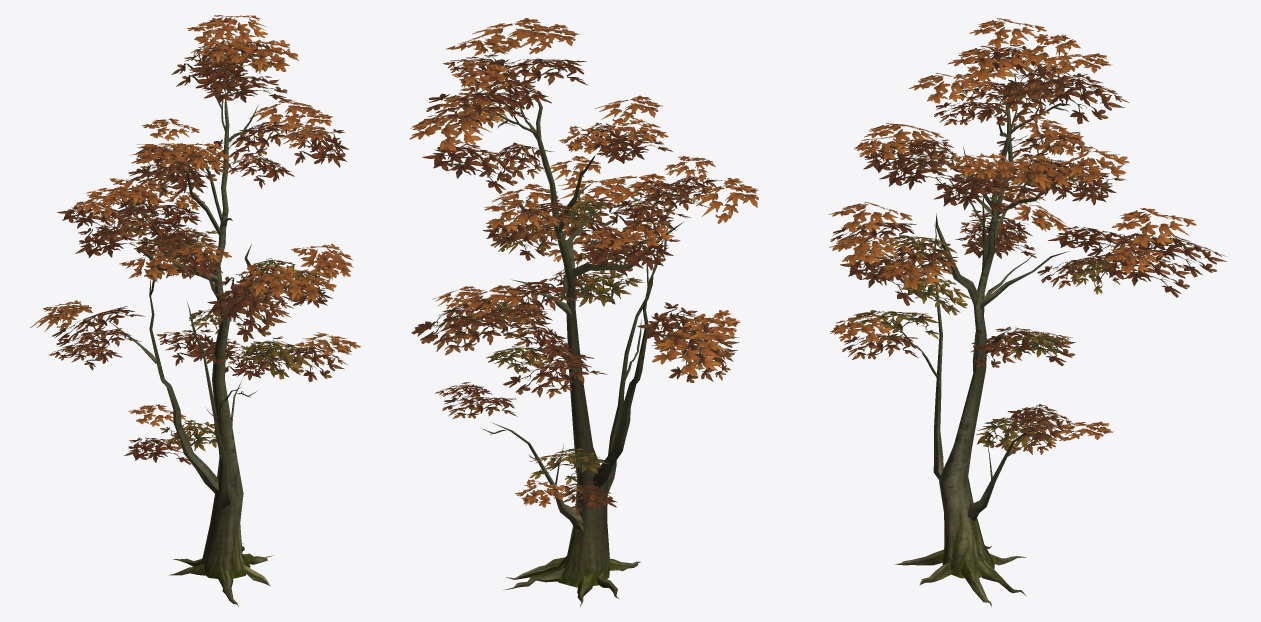
Rendered from 7003_Item_shu_2.FBX.
3 renders of one model, left to right at view 1: azimuth 30°, elevation 25°; view 2: azimuth 150°, elevation 25°; view 3: azimuth 270°, elevation 25°, orthographic. The views are drawn at different scales.
Visible parts, largest first — view 1: 7003_Item_shu_2; view 2: 7003_Item_shu_2; view 3: 7003_Item_shu_2.
Boxes of the visible parts, bbox=[...] form: 7003_Item_shu_2: bbox=[30, 15, 360, 606]; 7003_Item_shu_2: bbox=[409, 18, 758, 606]; 7003_Item_shu_2: bbox=[828, 18, 1226, 606].
Size of the model in its own units: 479 by 738 by 517.
